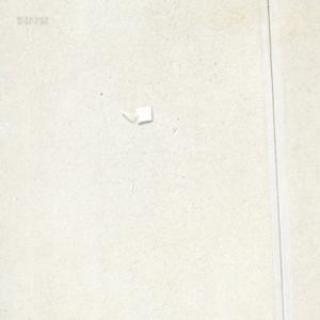LuggageTagtrack_idkeyframe: (118, 103, 152, 122)
